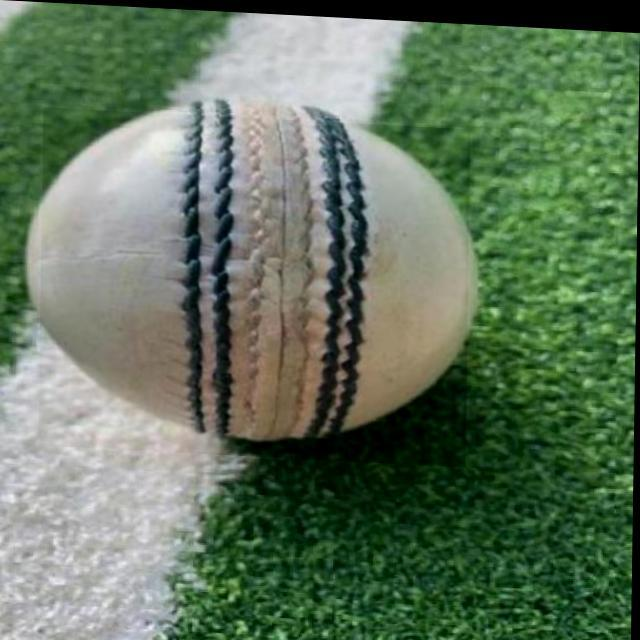-: (40, 107, 471, 462)
